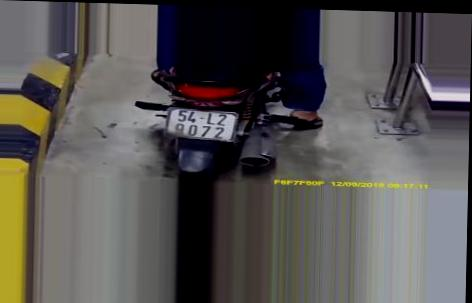License_Plate: (162, 103, 241, 147)
